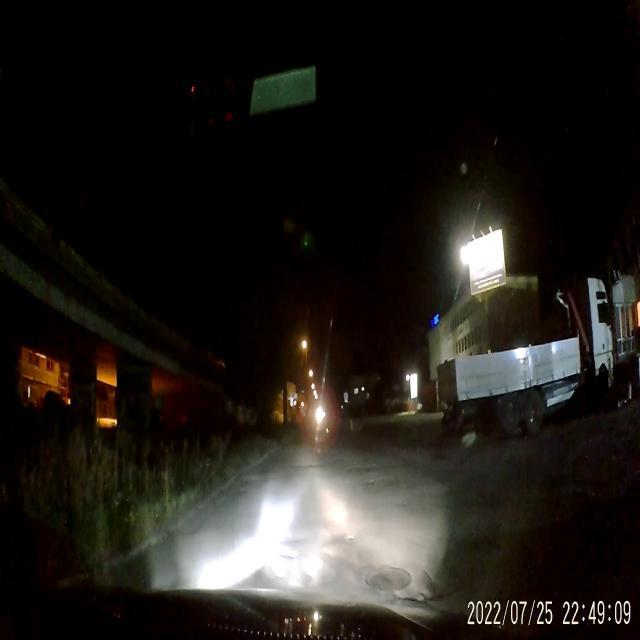Manhole: (362, 566, 412, 592)
Pothole: (393, 582, 453, 612), (343, 527, 356, 546)
